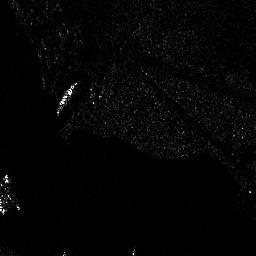ship: (56, 81, 77, 115)
